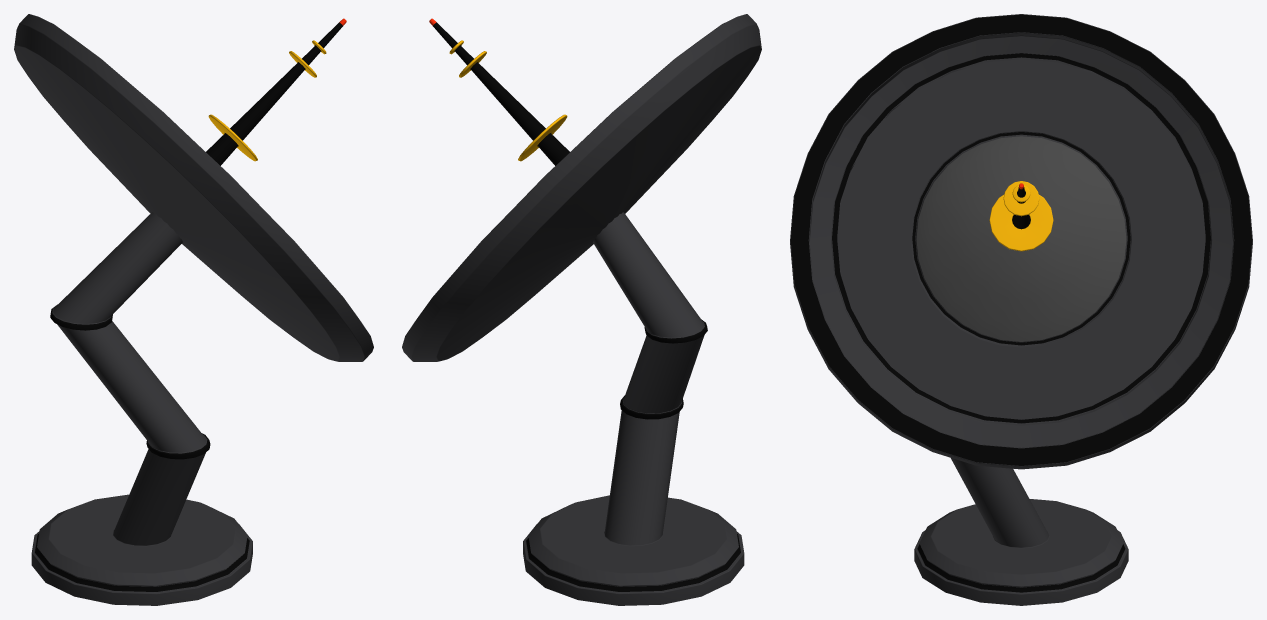
Rendered from SM_Satellite_01.fbx.
3 views of the same model, side by side, from view 1: azimuth 30°, elevation 25°; view 2: azimuth 150°, elevation 25°; view 3: azimuth 270°, elevation 25° (orthographic). The views are drawn at different scales.
Visible parts, largest first — view 1: Satelite_01; view 2: Satelite_01; view 3: Satelite_01.
Part boxes in pixels (bbox=[...]): Satelite_01: bbox=[14, 14, 373, 605]; Satelite_01: bbox=[402, 14, 761, 605]; Satelite_01: bbox=[790, 14, 1252, 605].
Size of the model in its own units: 544 by 927 by 755.
